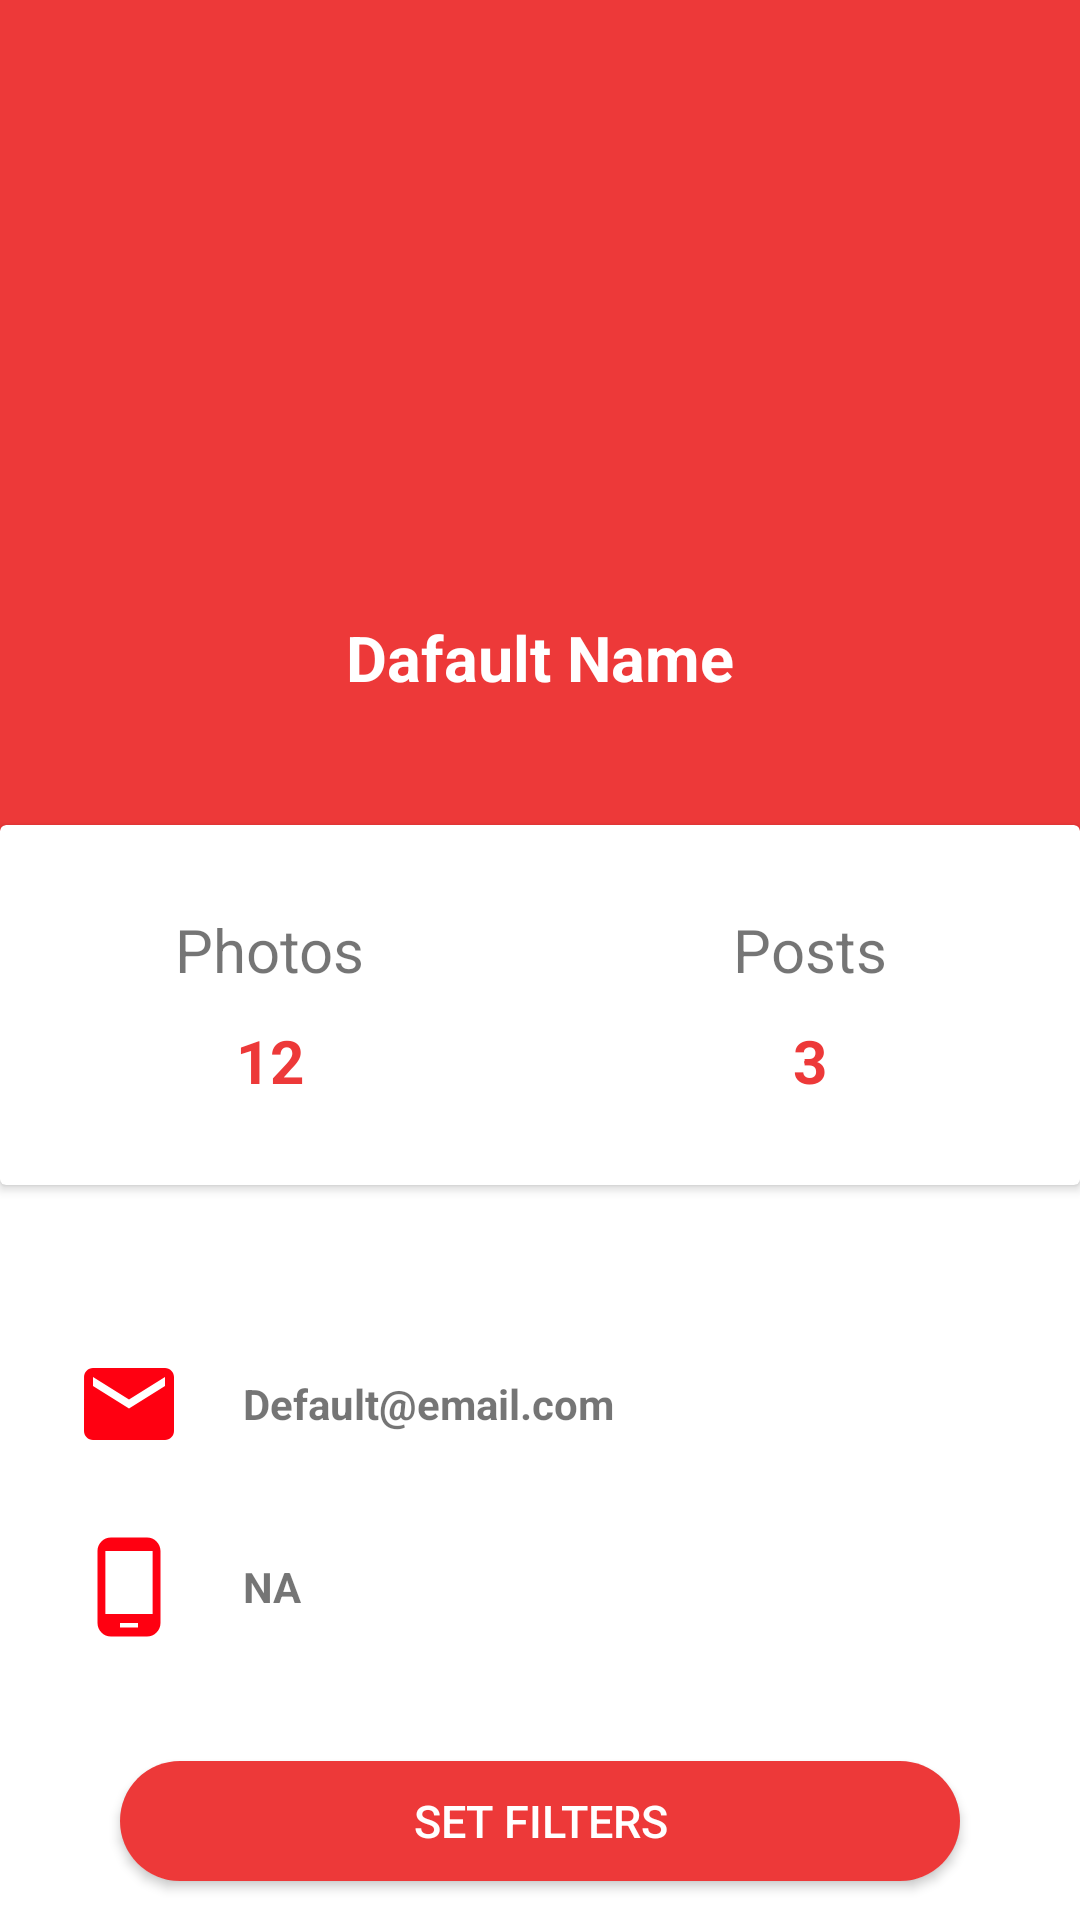

Icon bounding boxes for this 1080*1920 phone screenshot, format box=[x1, y1, x2, y2]:
phone android: box=[97, 1537, 161, 1637]
